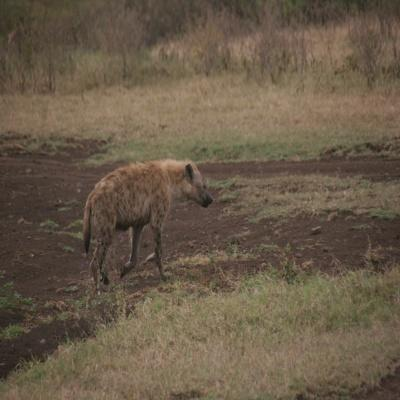hyenas: (63, 143, 217, 281)
